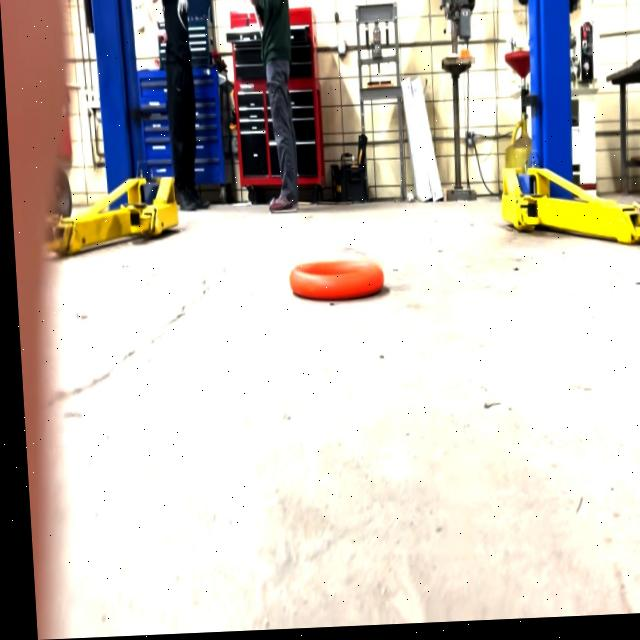note: (283, 259, 383, 310)
